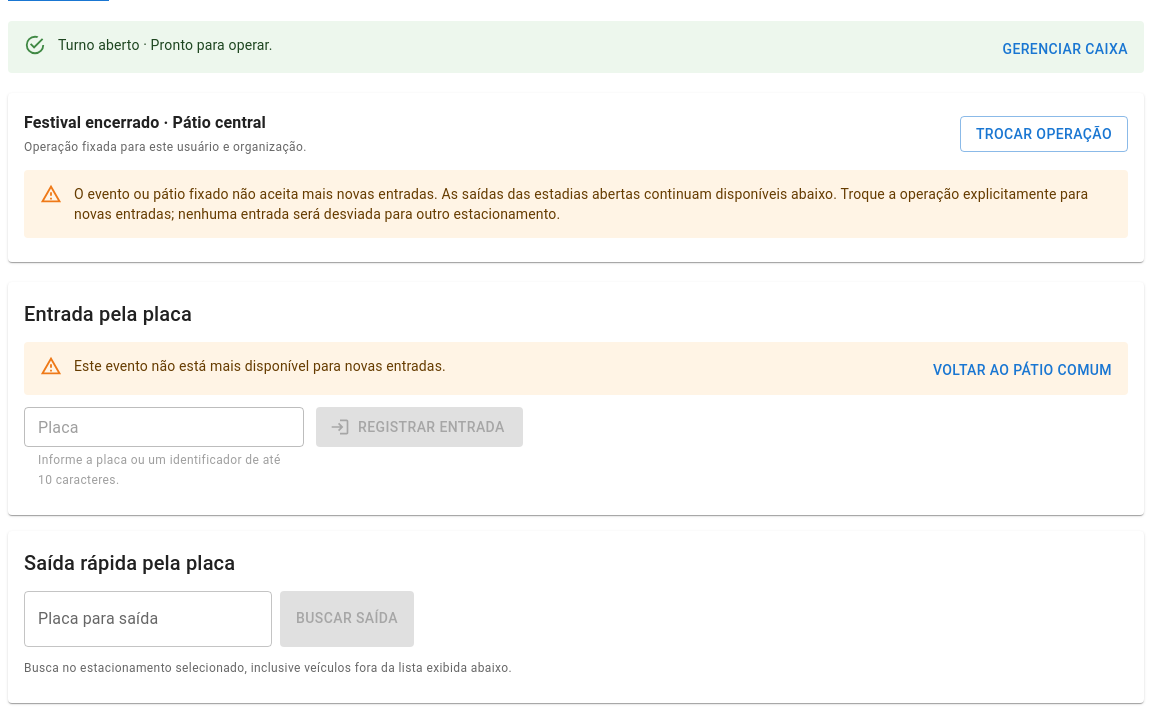
it: Operação do pátio › restaura o evento fixado e bloqueia entrada se ele não estiver mais disponível
(page scrolled)
Check: the text "nenhuma entrada será desviada" is shown, box [74,186,1088,222]
Check: the field labelled "Placa" is disabled, box [24,407,304,447]
Type "ABC1D23" into the field labelled "Placa para saída".
click(148, 619); type("ABC1D23")  # box [24,591,272,647]
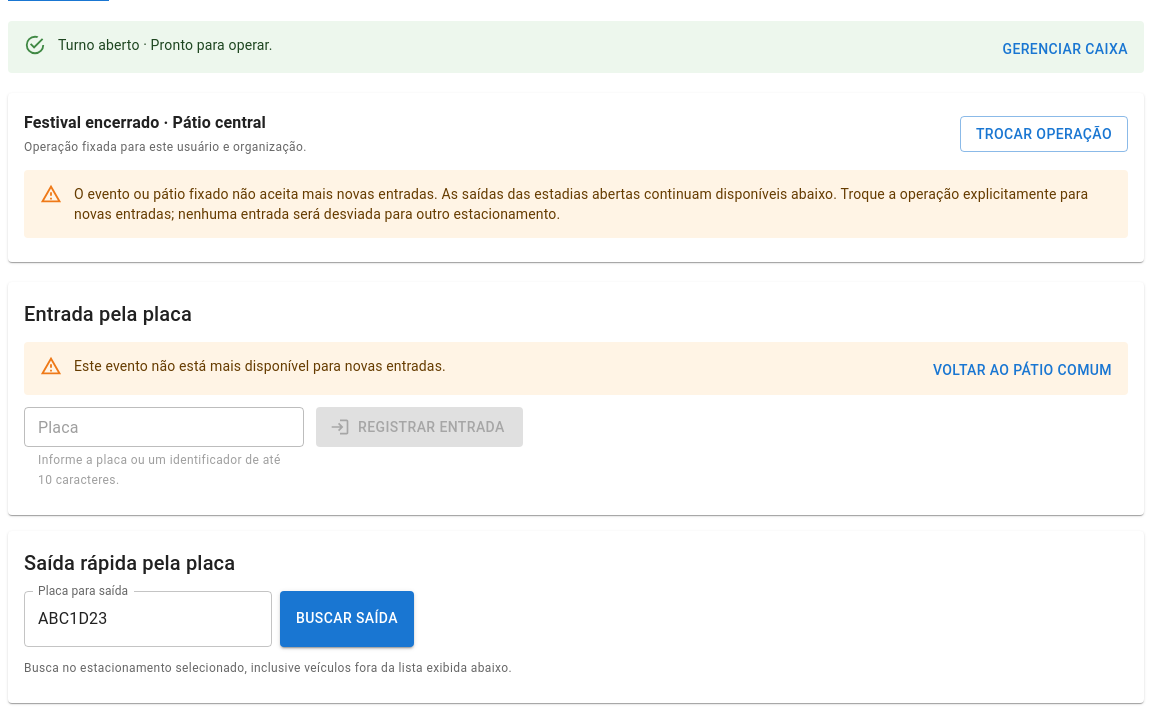
Check: the button "Buscar saída" is enabled
Click the button "Buscar saída".
click(347, 619)  # box [280,591,414,647]
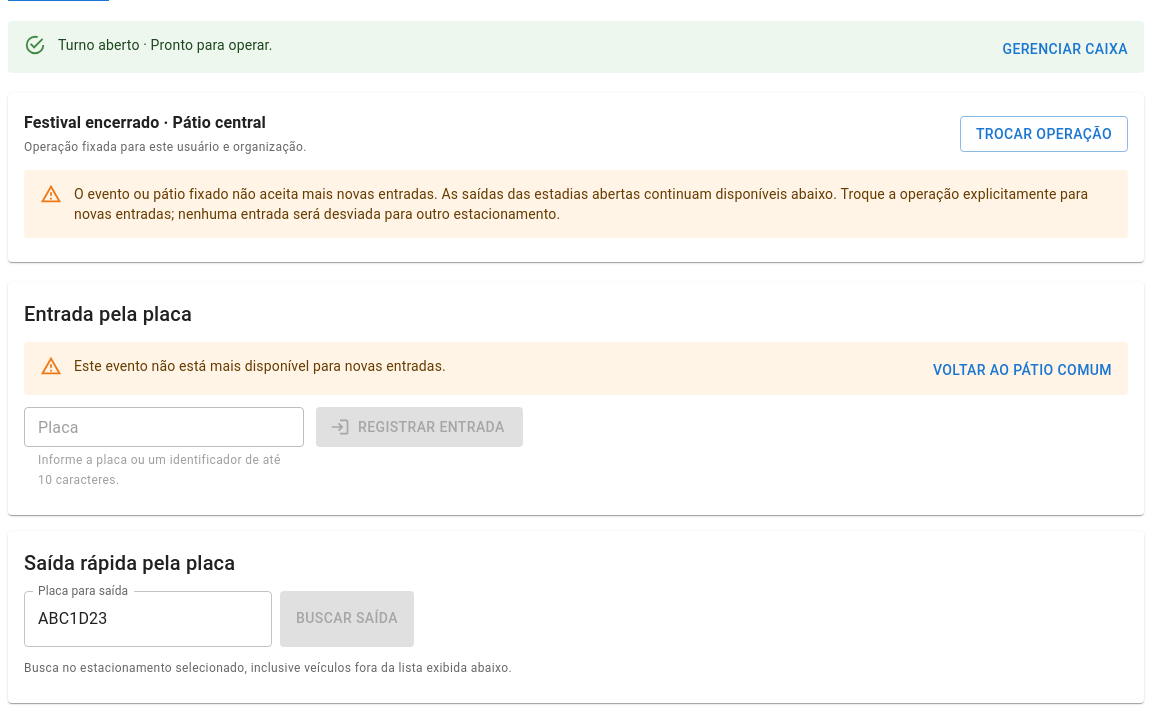
Click the button "Trocar operação".
click(1044, 134)  # box [960,116,1128,152]
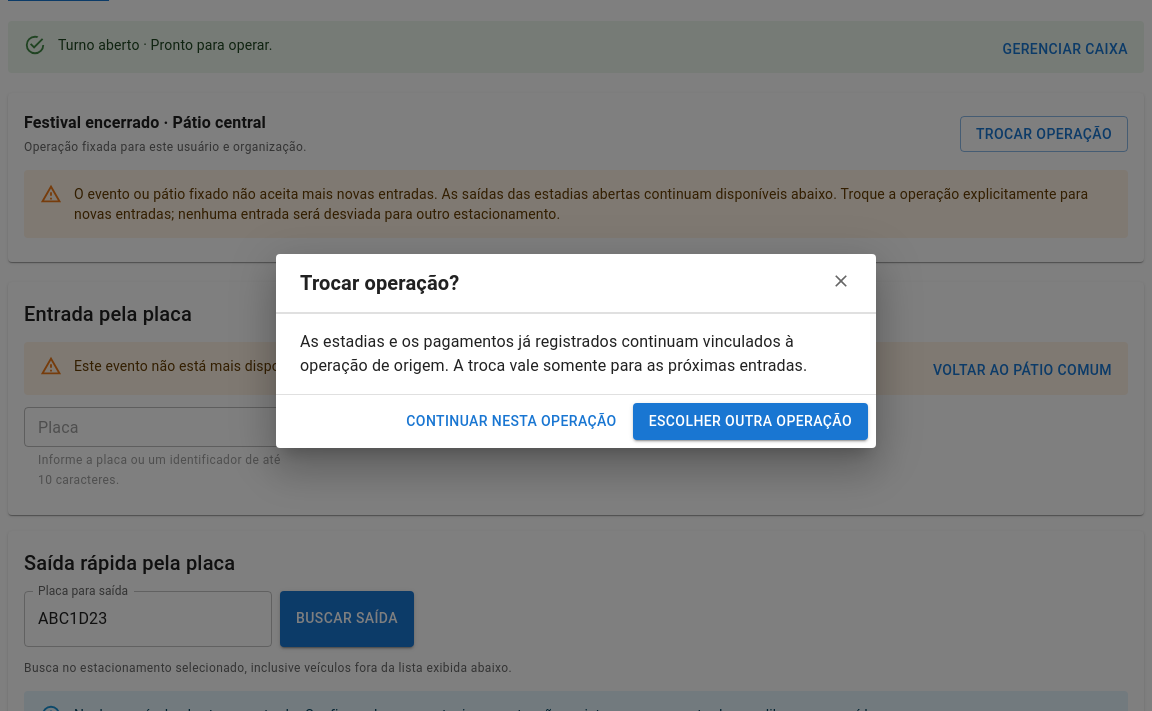
Check: the dialog "Trocar operação?" is shown, box [276,254,876,448]
